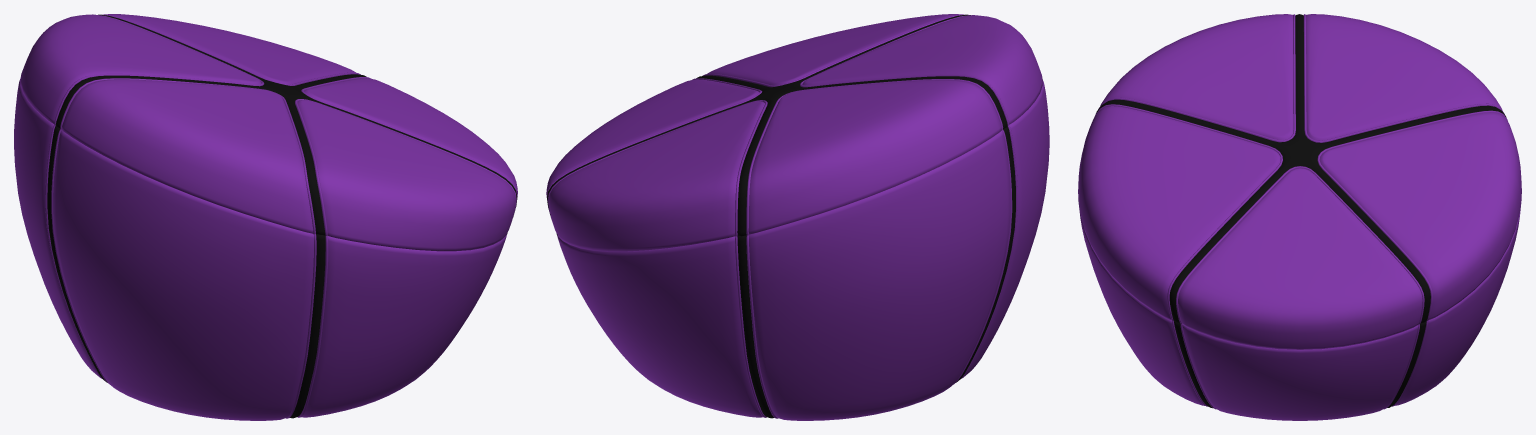
3 views of the same model, side by side, from view 1: azimuth 30°, elevation 25°; view 2: azimuth 150°, elevation 25°; view 3: azimuth 270°, elevation 25° (orthographic). The views are drawn at different scales.
Visible parts, largest first — view 1: AM121_036_00; view 2: AM121_036_00; view 3: AM121_036_00.
Part boxes in pixels (box(x1,y1,x2,y2)): AM121_036_00: box(14, 14, 517, 420); AM121_036_00: box(546, 14, 1049, 420); AM121_036_00: box(1078, 14, 1521, 420).
Size of the model in its own units: 53.86 by 37.56 by 54.91.
